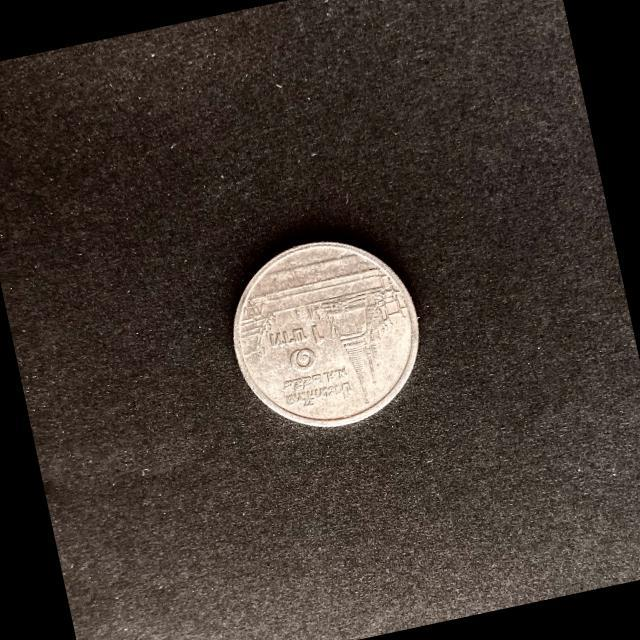1 Bath: (233, 240, 425, 429)
